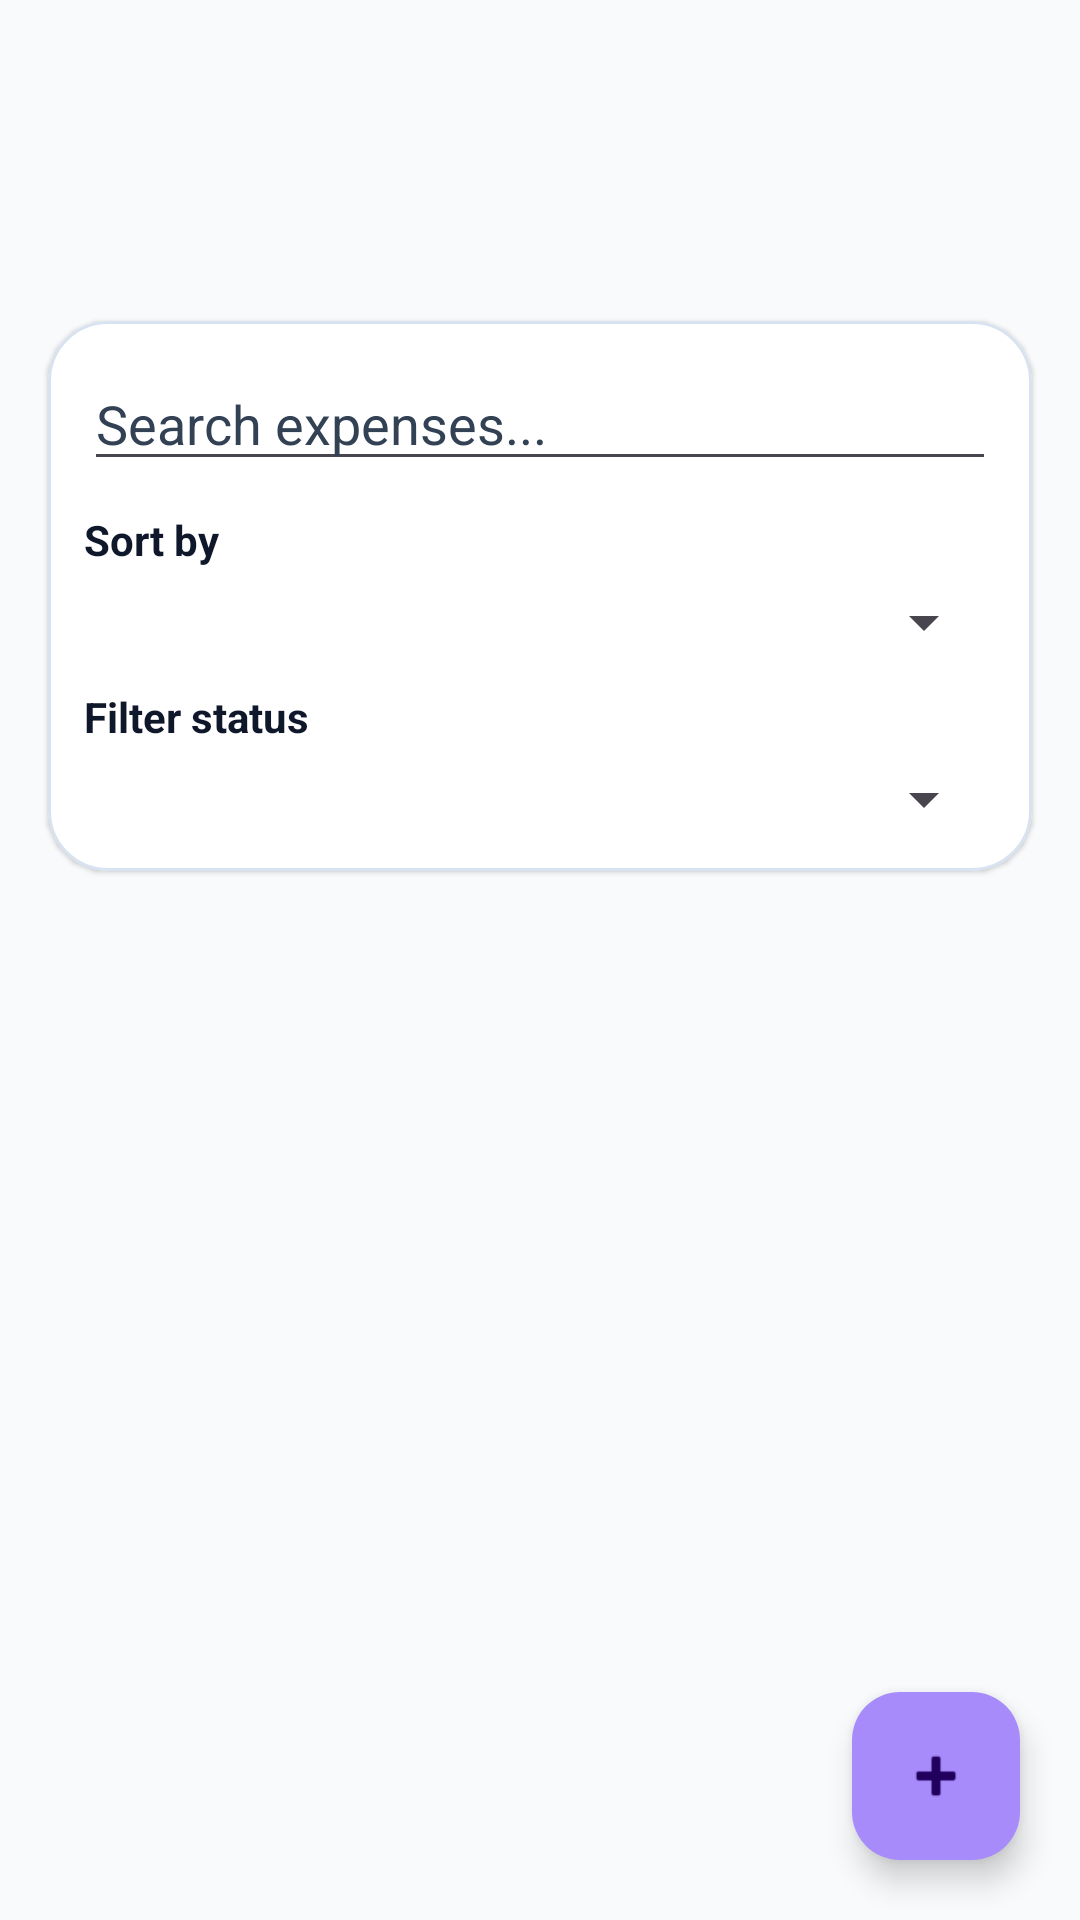

Icon bounding boxes for this 1080 x 1920 phone screenshot, format [x1=x1, y1=y1, x2=x2, y2=y2]:
Add Expense: [x1=852, y1=1692, x2=1020, y2=1860]
